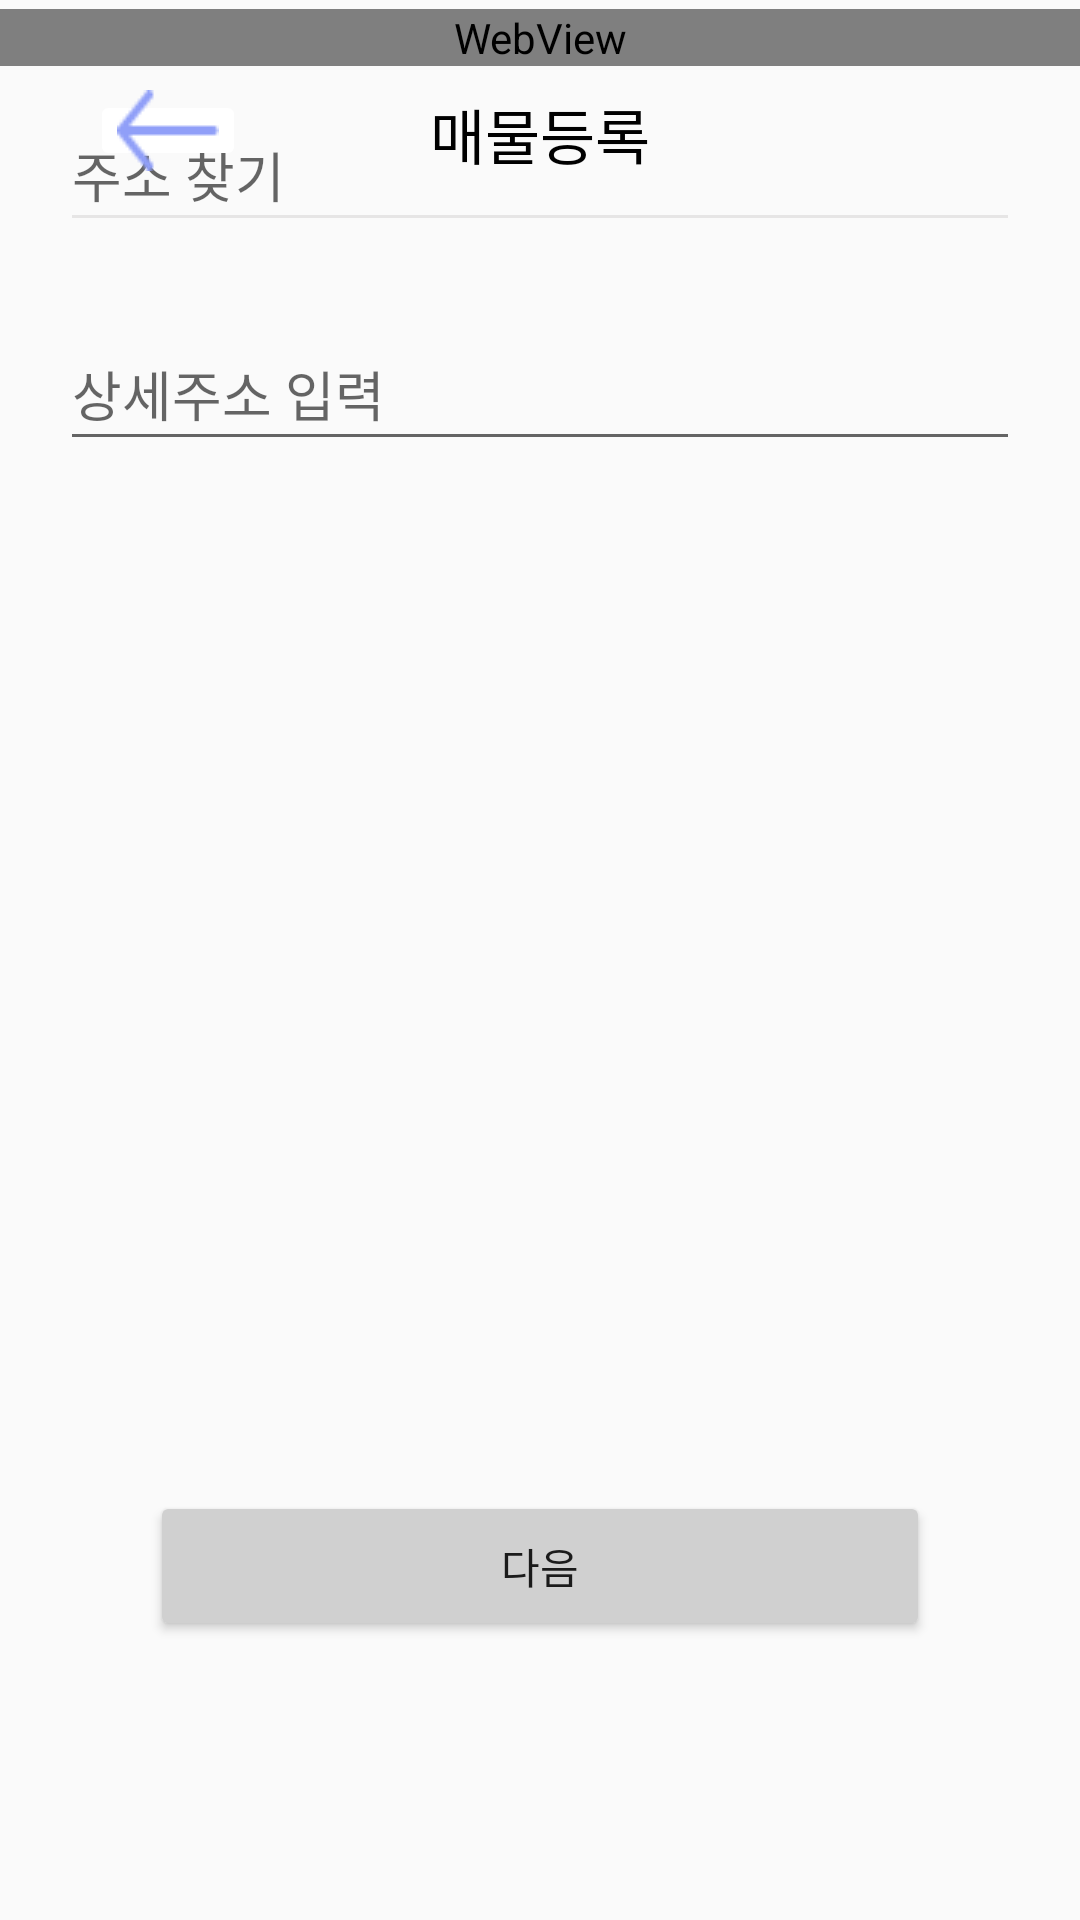

Point at icon controls on the screen. Image size 1080x1920, points as (x=x, y=y).
arrow left: (x=168, y=130)
